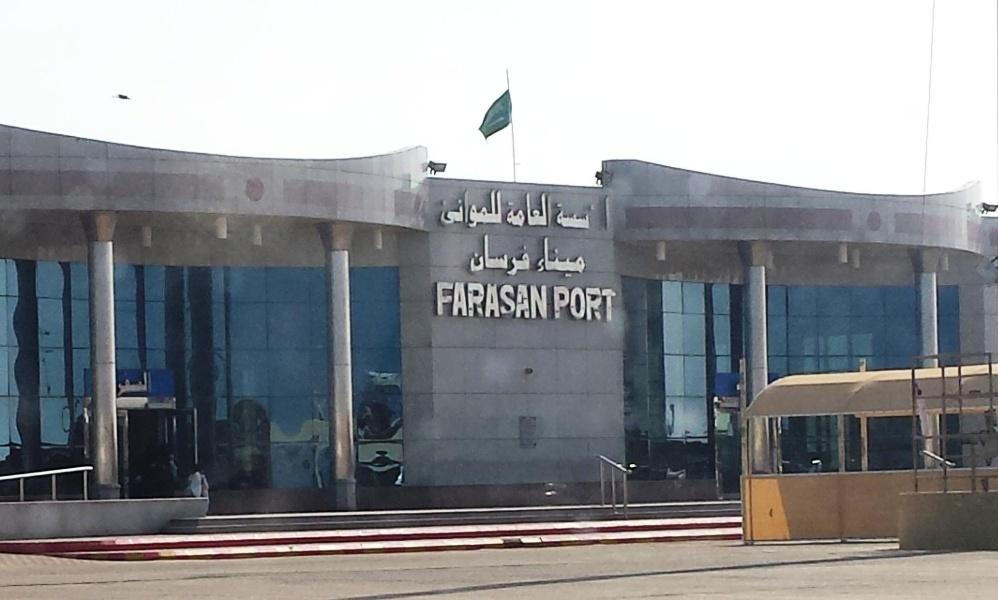text: (481, 233, 496, 278), (497, 233, 512, 278), (513, 233, 528, 278), (545, 236, 560, 279), (561, 236, 576, 279), (449, 189, 464, 229), (465, 189, 480, 229), (481, 189, 496, 229), (561, 284, 576, 324), (577, 284, 592, 324), (593, 284, 608, 324), (449, 281, 464, 320), (465, 281, 480, 320), (481, 281, 496, 320), (497, 281, 512, 320), (513, 281, 528, 320), (529, 281, 544, 320), (513, 191, 528, 228), (529, 191, 544, 228), (436, 281, 448, 320), (577, 236, 587, 279), (129, 370, 144, 398), (471, 233, 480, 278), (535, 236, 544, 279), (561, 204, 576, 229), (116, 370, 128, 398), (545, 191, 554, 228), (577, 204, 590, 229), (440, 189, 448, 229), (609, 284, 617, 324), (553, 284, 560, 324), (497, 189, 503, 229), (506, 191, 512, 228), (145, 370, 152, 398), (545, 281, 549, 320), (556, 204, 560, 229), (529, 233, 531, 278)
